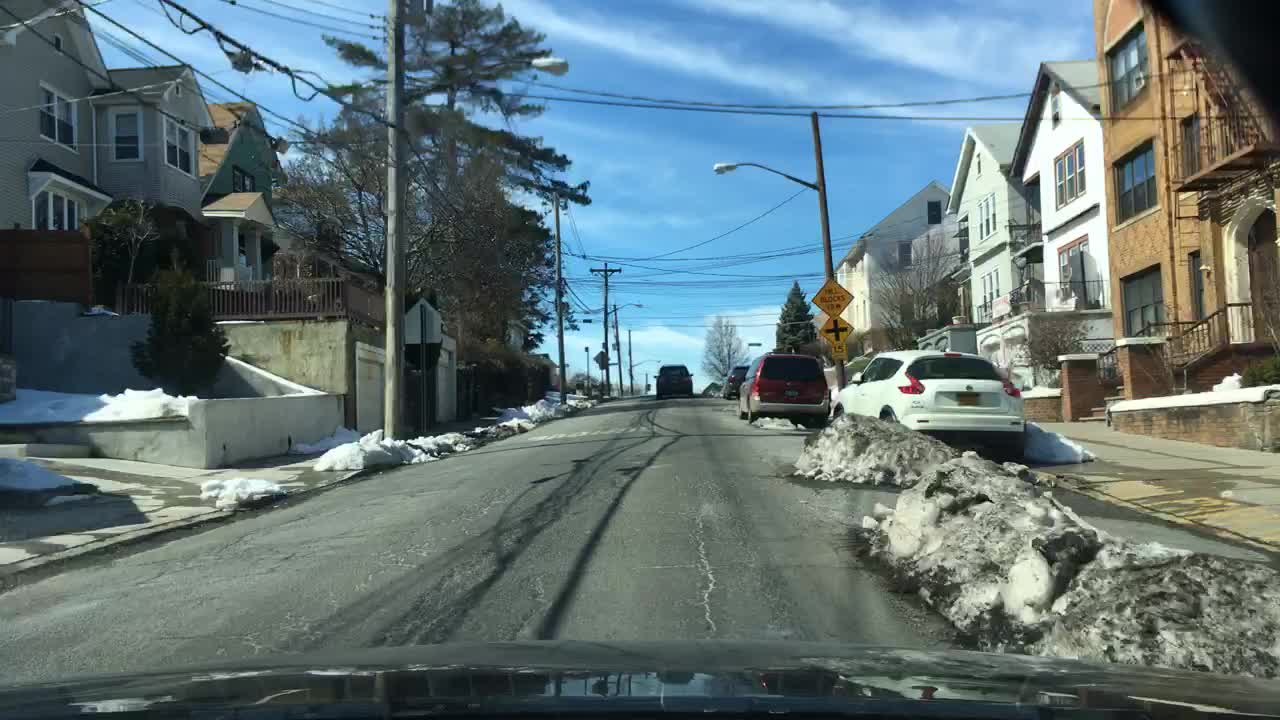car: (827, 347, 1029, 466), (737, 350, 832, 423), (650, 363, 696, 399), (719, 363, 750, 400)
traffic sign: (809, 276, 854, 317), (816, 314, 856, 345), (593, 350, 611, 368), (831, 345, 848, 361), (745, 342, 761, 346)
